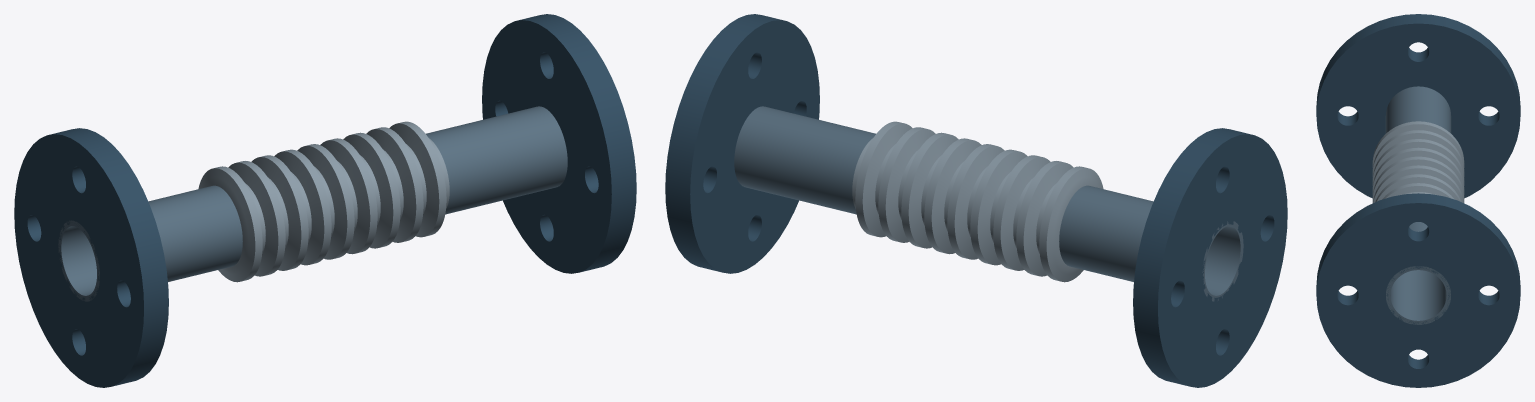
Rendered from flan-dn32-L290-D42_4-f-o135.glb.
3 renders of one model, left to right at view 1: azimuth 30°, elevation 25°; view 2: azimuth 150°, elevation 25°; view 3: azimuth 270°, elevation 25°, orthographic. The views are drawn at different scales.
Parts seen in each view (by area): view 1: homut_flanec_1, prokladka_silfon_1, homut_flanec_2, patrubok_2, patrubok_1; view 2: homut_flanec_1, prokladka_silfon_1, homut_flanec_2, patrubok_2, patrubok_1; view 3: homut_flanec_2, homut_flanec_1, prokladka_silfon_1, patrubok_2, patrubok_1.
Part boxes in pixels (x1,y1,x2,y2): homut_flanec_1: [14, 128, 168, 387]; prokladka_silfon_1: [198, 121, 449, 282]; homut_flanec_2: [482, 14, 636, 273]; patrubok_2: [426, 106, 567, 214]; patrubok_1: [58, 185, 242, 301]; homut_flanec_1: [1133, 128, 1287, 387]; prokladka_silfon_1: [852, 121, 1103, 282]; homut_flanec_2: [665, 14, 819, 273]; patrubok_2: [734, 106, 875, 214]; patrubok_1: [1059, 185, 1243, 301]; homut_flanec_2: [1316, 193, 1520, 387]; homut_flanec_1: [1316, 14, 1520, 198]; prokladka_silfon_1: [1372, 121, 1464, 202]; patrubok_2: [1386, 222, 1450, 324]; patrubok_1: [1385, 86, 1451, 133].
Size of the model in its own units: 290 by 132 by 132.
